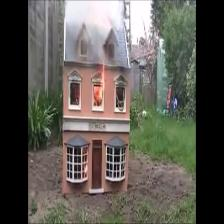fire: (92, 68, 105, 108)
